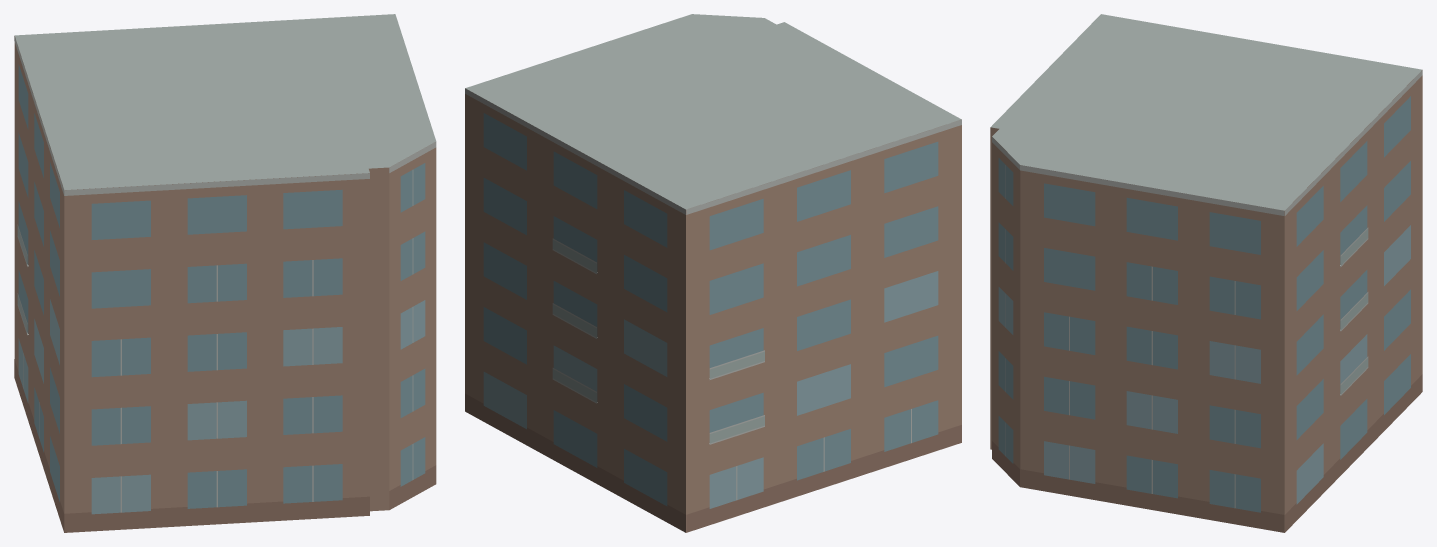
The model's file is survey-upis-32931343.glb.
3 renders of one model, left to right at view 1: azimuth 30°, elevation 25°; view 2: azimuth 150°, elevation 25°; view 3: azimuth 270°, elevation 25°, orthographic. The views are drawn at different scales.
Visible parts, largest first — view 1: survey-upis-32931343.tmp; view 2: survey-upis-32931343.tmp; view 3: survey-upis-32931343.tmp.
Part boxes in pixels (<box>): survey-upis-32931343.tmp: <box>14,14,436,532</box>; survey-upis-32931343.tmp: <box>465,14,961,532</box>; survey-upis-32931343.tmp: <box>990,14,1422,532</box>.
Size of the model in its own units: 18.8 by 14.35 by 17.46.
